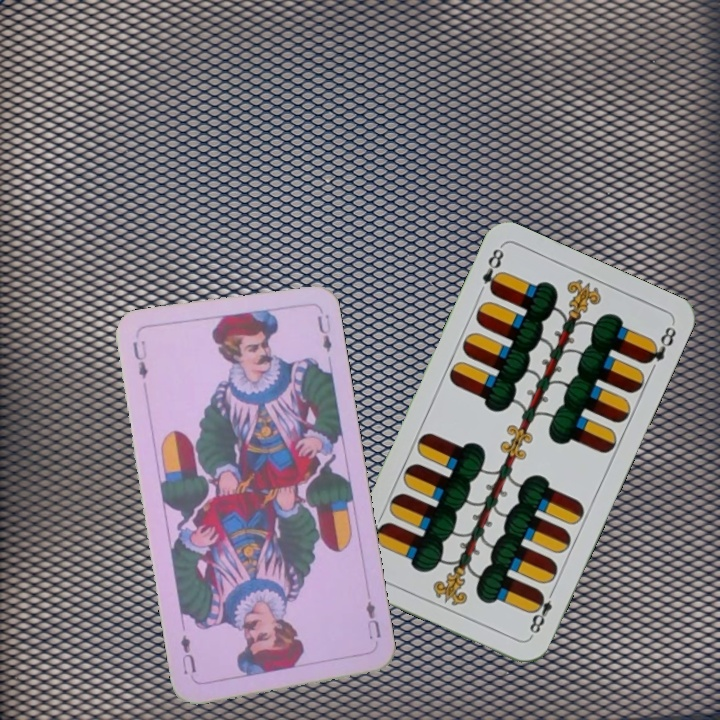E8: (525, 585, 558, 640), (478, 242, 507, 297)
EU: (361, 597, 384, 642), (128, 336, 151, 381)
